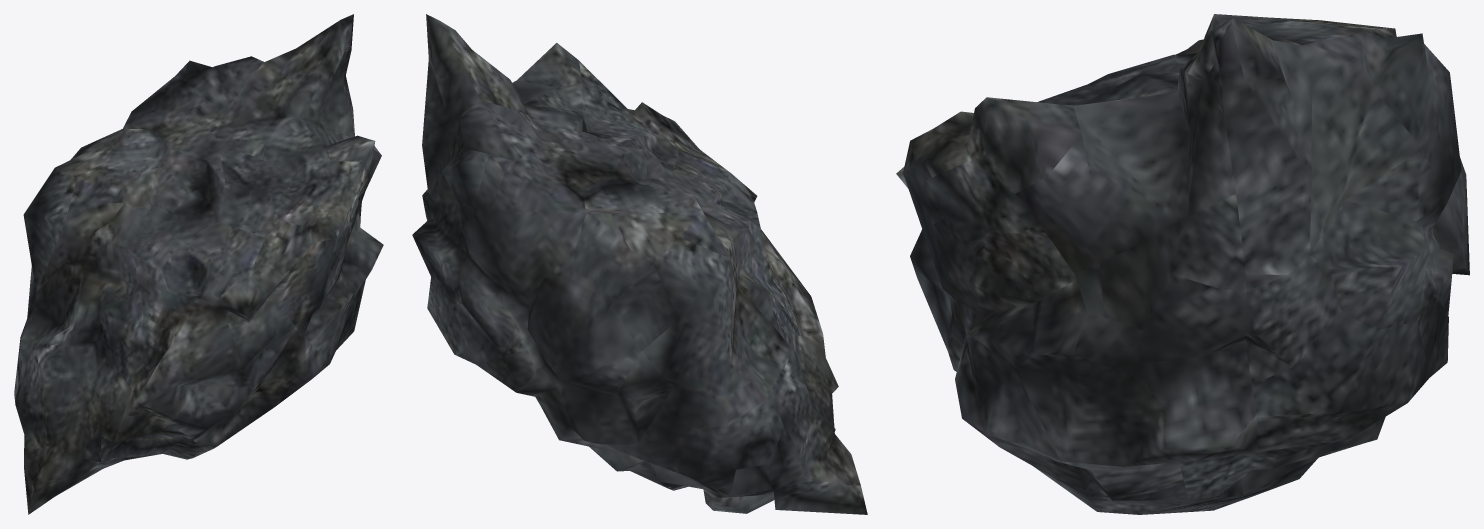
Rendered from obj_rock_lo.glb.
3 views of the same model, side by side, from view 1: azimuth 30°, elevation 25°; view 2: azimuth 150°, elevation 25°; view 3: azimuth 270°, elevation 25° (orthographic). The views are drawn at different scales.
Visible parts, largest first — view 1: tripo_node_3fbdc92a-9d72-4849-9c37-612d9fc71c67; view 2: tripo_node_3fbdc92a-9d72-4849-9c37-612d9fc71c67; view 3: tripo_node_3fbdc92a-9d72-4849-9c37-612d9fc71c67.
Boxes of the visible parts, left/top/right/bottom form: tripo_node_3fbdc92a-9d72-4849-9c37-612d9fc71c67: left=14, top=14, right=383, bottom=514; tripo_node_3fbdc92a-9d72-4849-9c37-612d9fc71c67: left=412, top=14, right=867, bottom=514; tripo_node_3fbdc92a-9d72-4849-9c37-612d9fc71c67: left=896, top=14, right=1469, bottom=514.
Size of the model in its own units: 0.9413 by 0.9639 by 0.732.
1 material, 1 textured.
